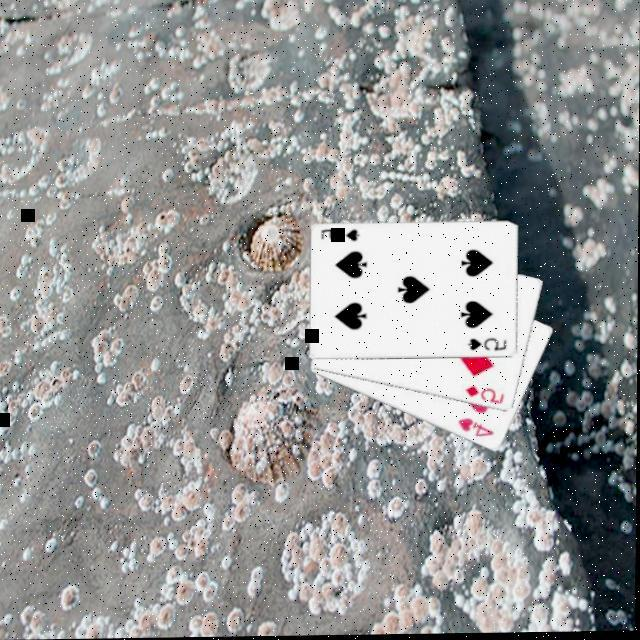4H: (458, 415, 500, 441)
5D: (465, 382, 509, 408)
5S: (320, 226, 366, 245), (468, 336, 512, 354)
